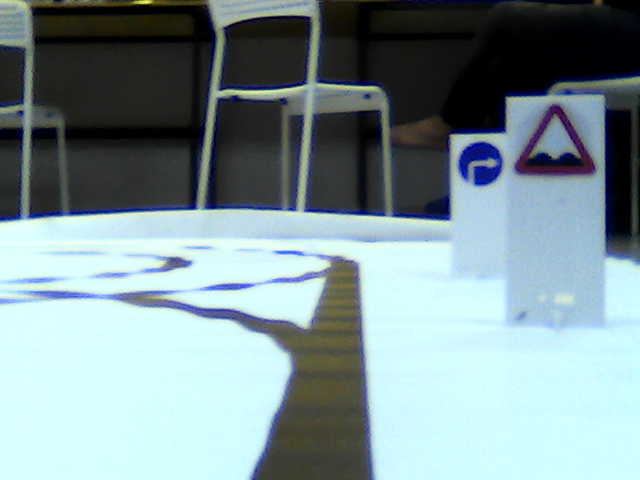Nerov: (515, 102, 596, 175)
Right: (457, 141, 502, 188)
